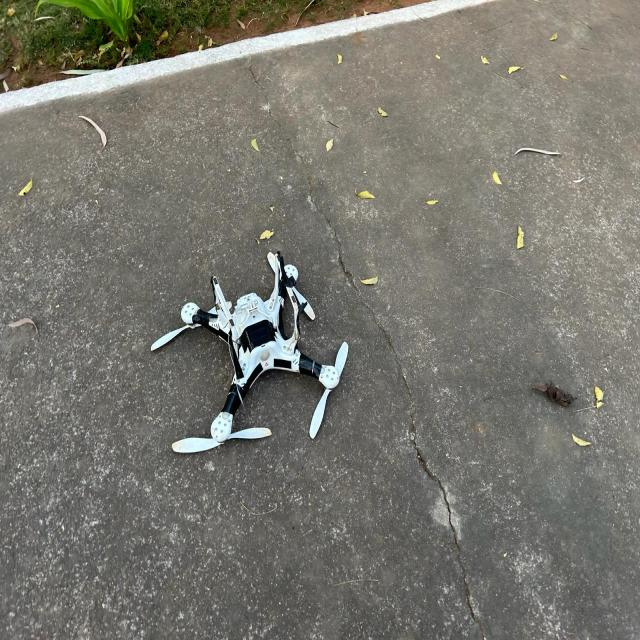drone: (108, 182, 421, 494)
